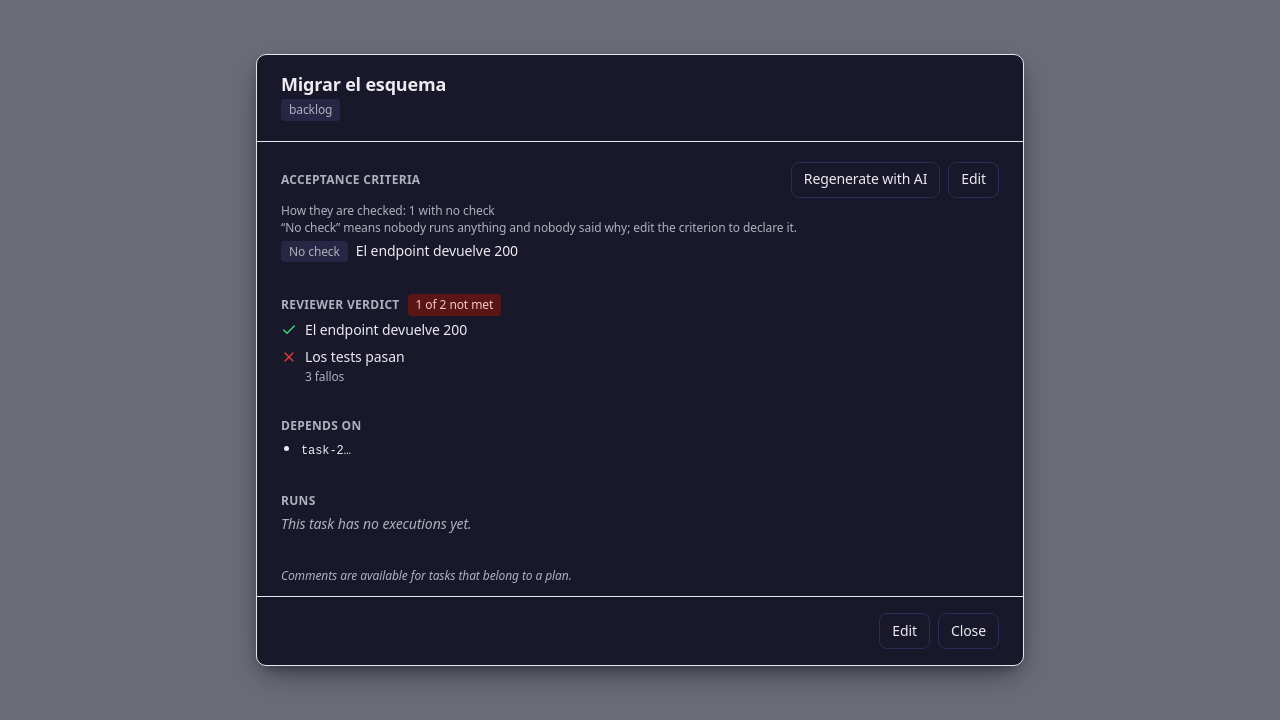
Test case: ficha de la tarea en los dos idiomas › traduce el editor de criterios y su diálogo de comparación
Click the button with test id "task-criteria-edit" at (974, 180), box 948,162 -> 999,198
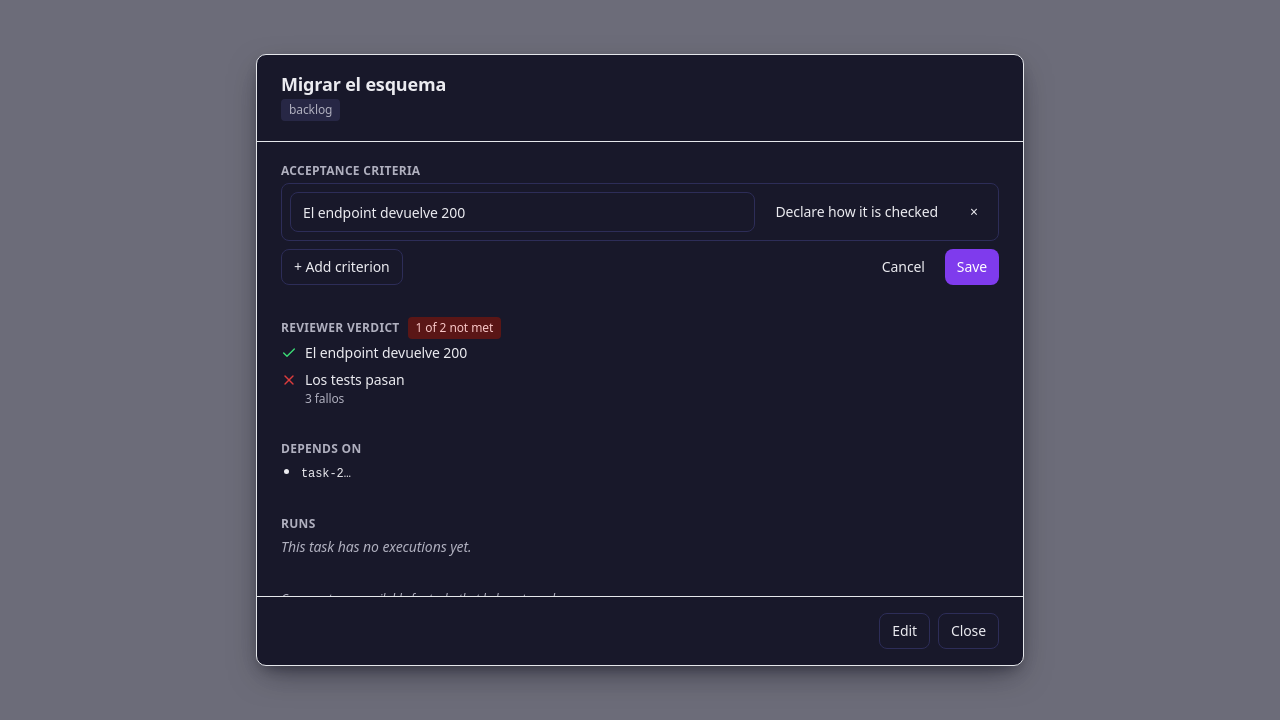
Check: the field with test id "task-criterion-input" is shown, box 290,192 -> 755,232
Check: the button with test id "task-criterion-add" shows "Add criterion", box 281,249 -> 403,285
Check: the button with test id "task-criteria-save" reads "Save", box 945,249 -> 999,285
